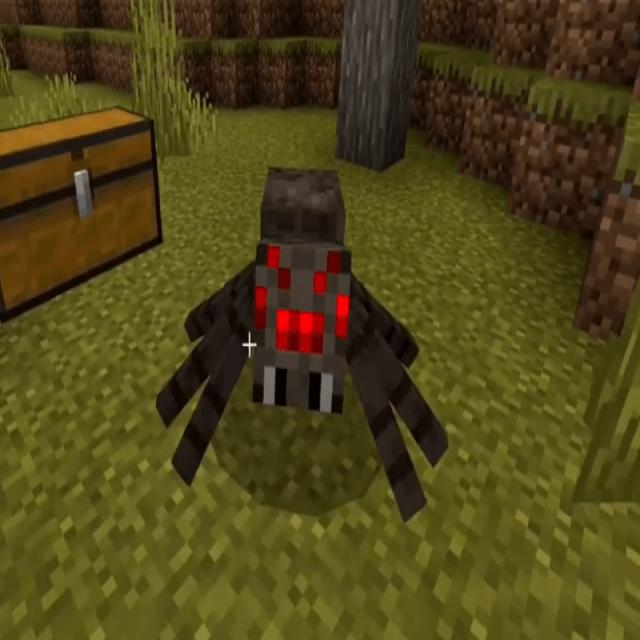Spider: (154, 162, 449, 524)
